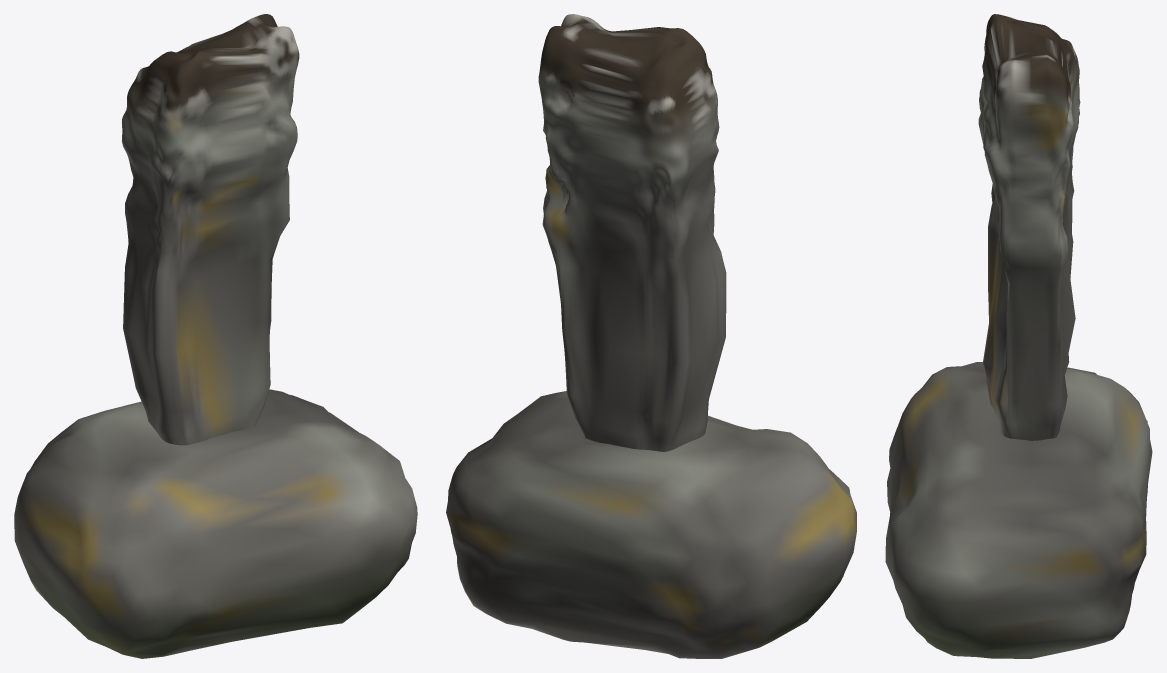
Rendered from club.glb.
3 renders of one model, left to right at view 1: azimuth 30°, elevation 25°; view 2: azimuth 150°, elevation 25°; view 3: azimuth 270°, elevation 25°, orthographic. The views are drawn at different scales.
Parts seen in each view (by area): view 1: seat, club; view 2: seat, club; view 3: seat, club.
Boxes of the visible parts, left/top/right/bottom form: seat: left=14, top=389, right=417, bottom=658; club: left=122, top=14, right=299, bottom=445; seat: left=446, top=391, right=856, bottom=658; club: left=538, top=14, right=726, bottom=451; seat: left=885, top=362, right=1152, bottom=658; club: left=978, top=14, right=1080, bottom=440.
Bounding box in the file's own units: 1.79 × 2.92 × 1.2.
